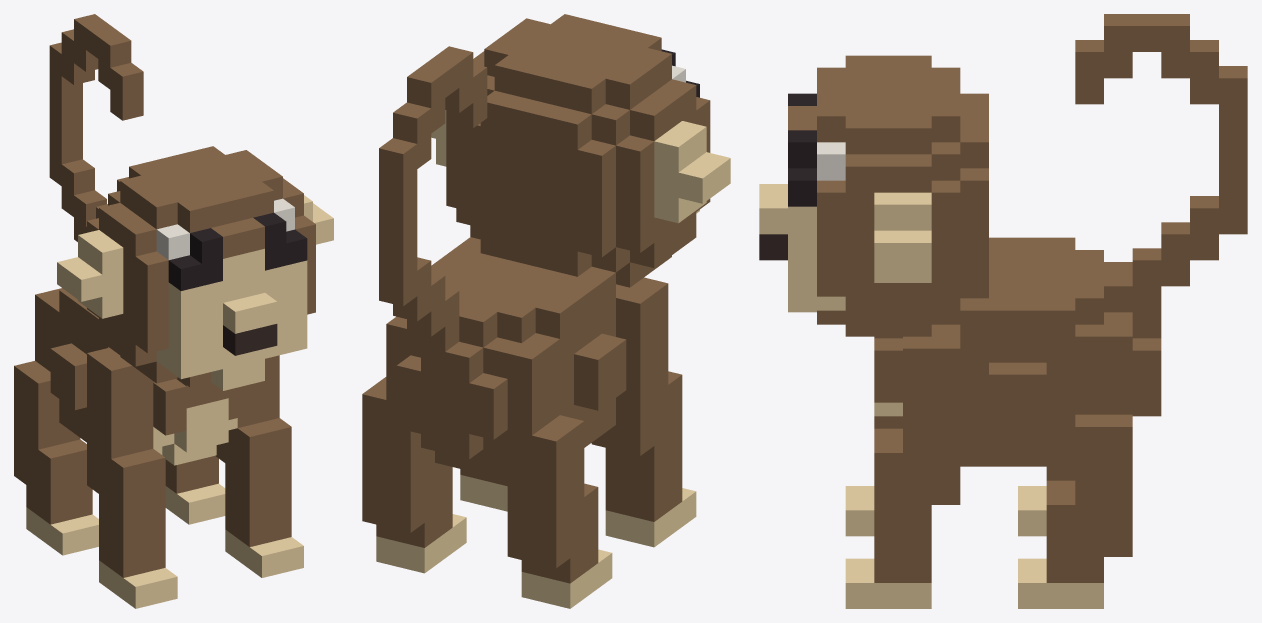
Rendered from monkey.glb.
3 views of the same model, side by side, from view 1: azimuth 30°, elevation 25°; view 2: azimuth 150°, elevation 25°; view 3: azimuth 270°, elevation 25° (orthographic). The views are drawn at different scales.
Parts seen in each view (by area): view 1: monkey; view 2: monkey; view 3: monkey.
Boxes of the visible parts, x1,y1,x2,y2 form: monkey: (14, 14, 333, 608); monkey: (362, 14, 730, 608); monkey: (759, 14, 1247, 608).
Bounding box in the file's own units: 1.2 × 2.1 × 1.7.
Materials: 1 (1 with a texture image).
